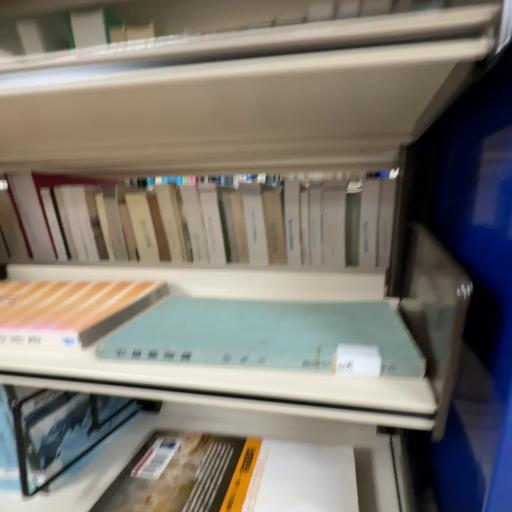flat: (97, 296, 425, 379), (91, 431, 356, 512), (1, 281, 170, 351)
